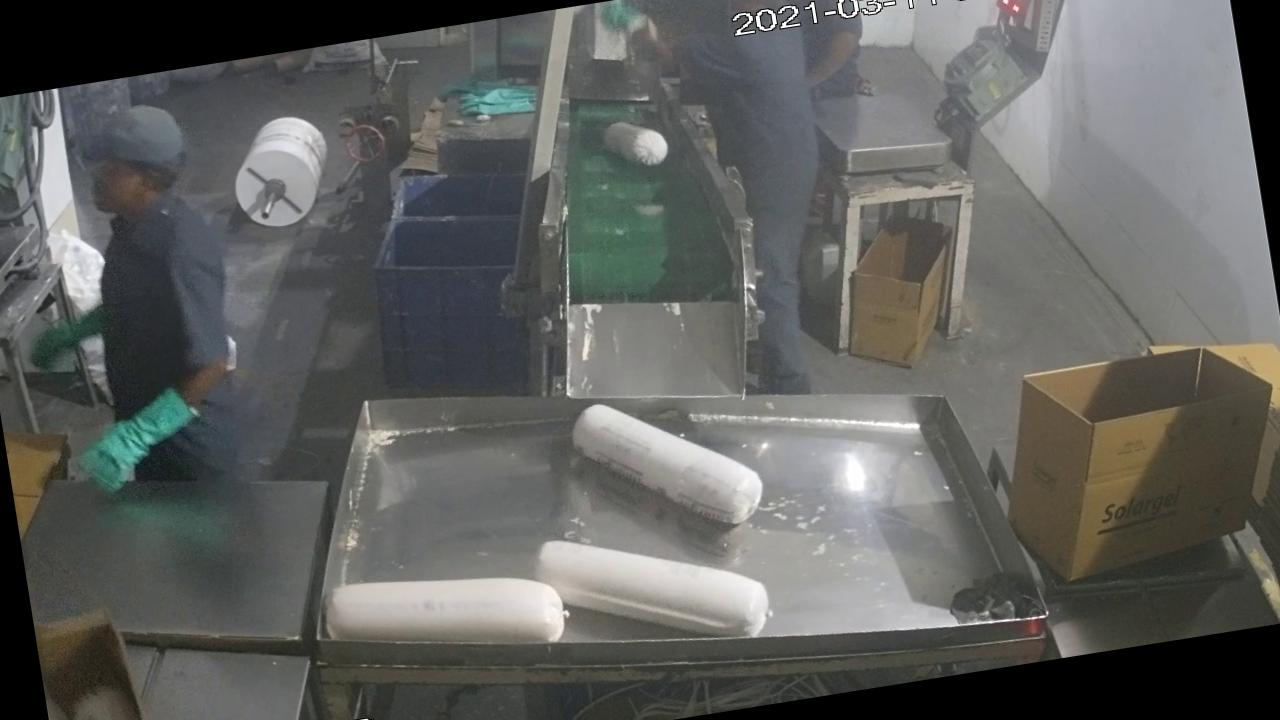Gloves: (66, 376, 216, 512)
